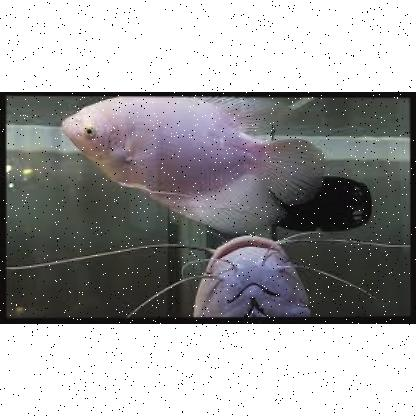gurame: (60, 92, 324, 232)
